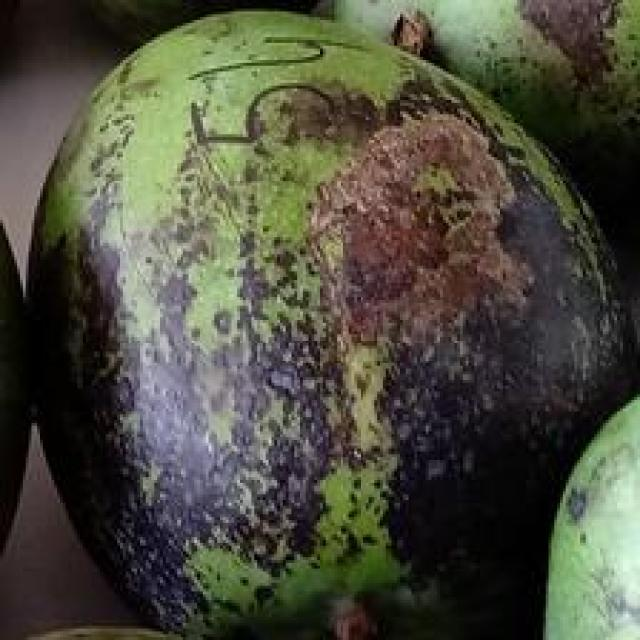Bad_Mango: (31, 12, 636, 640)
